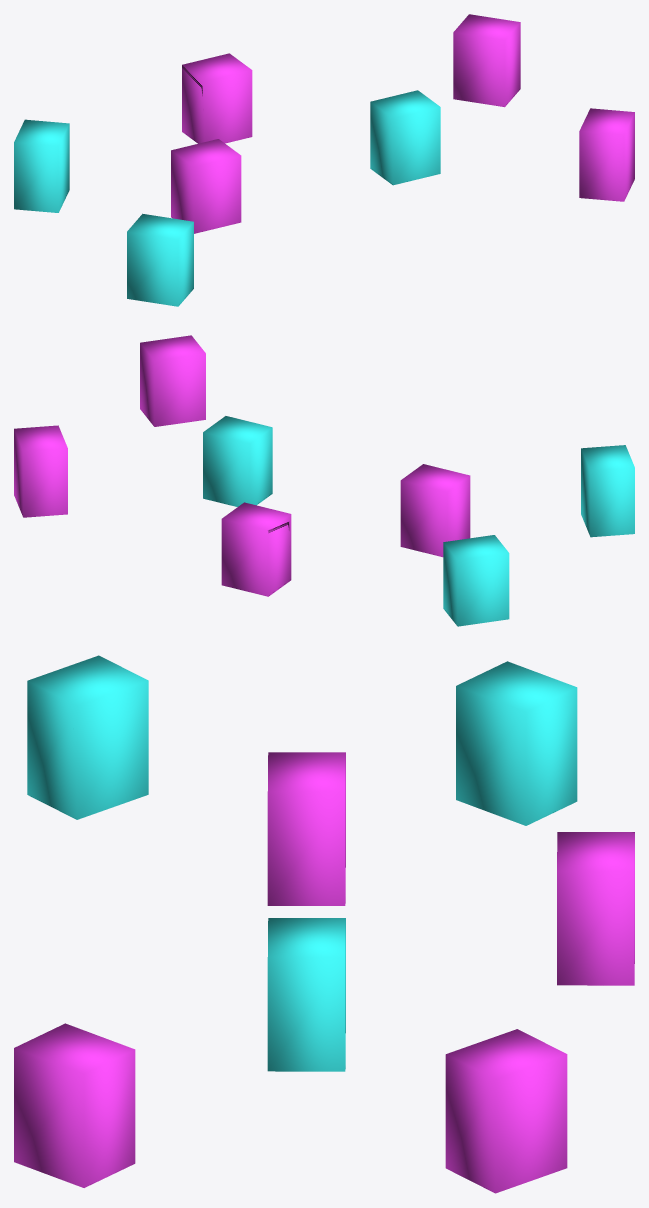
The model's file is CubesTR.dae.
The picture shows the model from 3 angles, top to bottom: view 1: azimuth 30°, elevation 25°; view 2: azimuth 150°, elevation 25°; view 3: azimuth 270°, elevation 25°; orthographic projection. The views are drawn at different scales.
Visible parts, largest first — view 1: CubeTR; view 2: CubeTR; view 3: CubeTR.
Boxes of the visible parts, x1=… form: CubeTR: x1=14, y1=14, x2=634, y2=306; CubeTR: x1=14, y1=335, x2=634, y2=626; CubeTR: x1=14, y1=655, x2=634, y2=1193.
Size of the model in its own units: 4.23 by 2.62 by 0.5313.
Materials: 2 (2 with a texture image).
